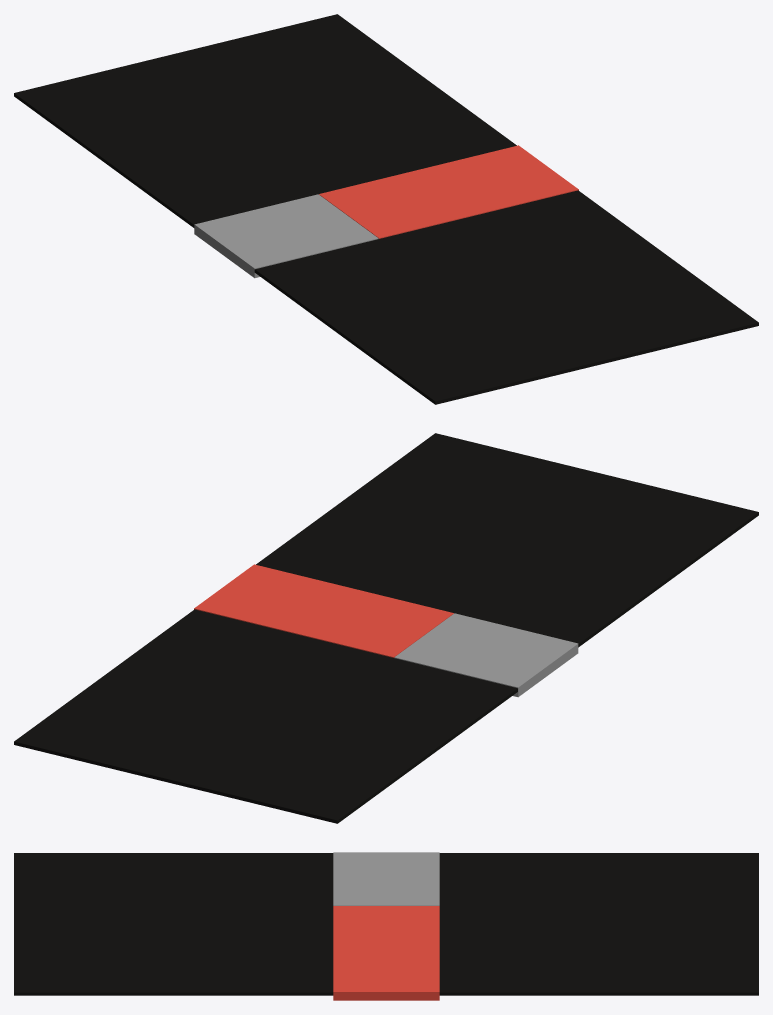
Rendered from Road_Passing.fbx.
3 views of the same model, one above another, from view 1: azimuth 30°, elevation 25°; view 2: azimuth 150°, elevation 25°; view 3: azimuth 270°, elevation 25° (orthographic). The views are drawn at different scales.
Parts seen in each view (by area): view 1: Cube.004, Cube.002, Cube.007; view 2: Cube.004, Cube.002, Cube.007; view 3: Cube.004, Cube.002, Cube.007.
Boxes of the visible parts, box(x1,y1,x2,y2) form: Cube.004: box(14, 14, 758, 404); Cube.002: box(319, 145, 578, 238); Cube.007: box(194, 194, 378, 278); Cube.004: box(14, 433, 758, 823); Cube.002: box(194, 564, 453, 657); Cube.007: box(394, 613, 578, 697); Cube.004: box(14, 853, 758, 995); Cube.002: box(333, 906, 439, 1000); Cube.007: box(333, 852, 439, 905).
Size of the model in its own units: 889 by 25.55 by 2001.
